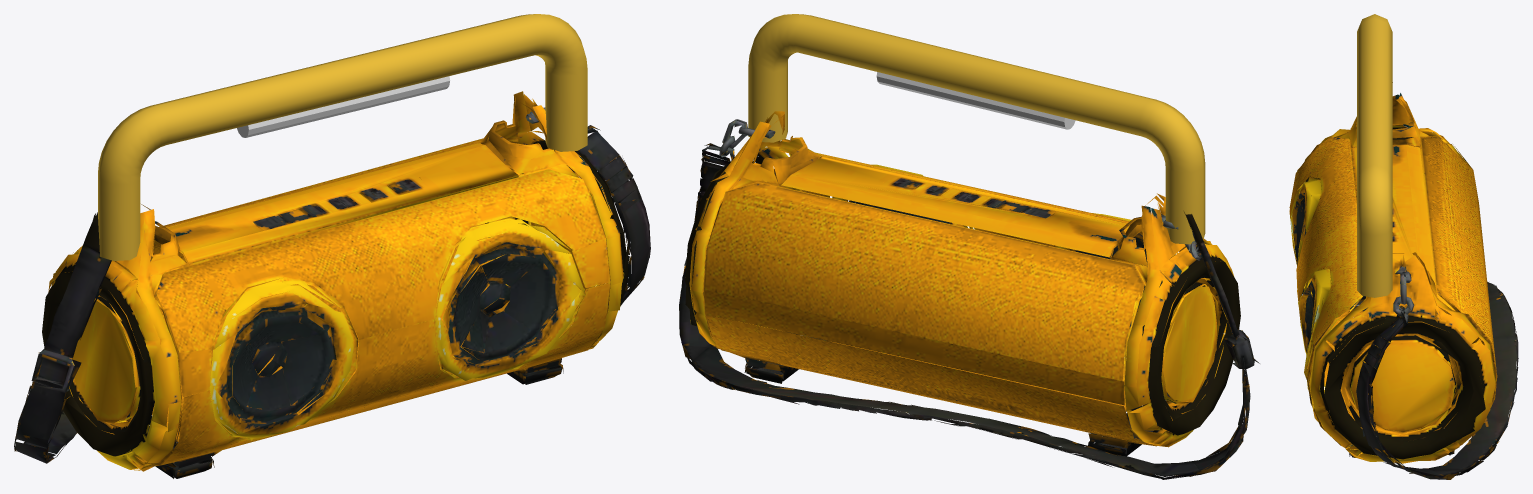
File: som-caixa-2.glb
The picture shows the model from 3 angles, left to right: view 1: azimuth 30°, elevation 25°; view 2: azimuth 150°, elevation 25°; view 3: azimuth 270°, elevation 25°; orthographic projection. The views are drawn at different scales.
Parts seen in each view (by area): view 1: Som_caixa, Hand_contact_bar; view 2: Som_caixa, Hand_contact_bar; view 3: Som_caixa.
Part boxes in pixels (left/top/right/bottom): Som_caixa: left=14, top=14, right=650, bottom=478; Hand_contact_bar: left=237, top=76, right=449, bottom=137; Som_caixa: left=679, top=14, right=1259, bottom=479; Hand_contact_bar: left=876, top=72, right=1075, bottom=129; Som_caixa: left=1289, top=14, right=1518, bottom=479.
Bounding box in the file's own units: 0.5507 × 0.3047 × 0.2205.
Materials: 3 (1 with a texture image).
